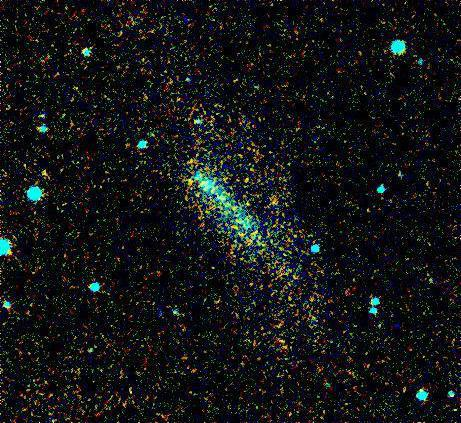star: (173, 172, 203, 202)
